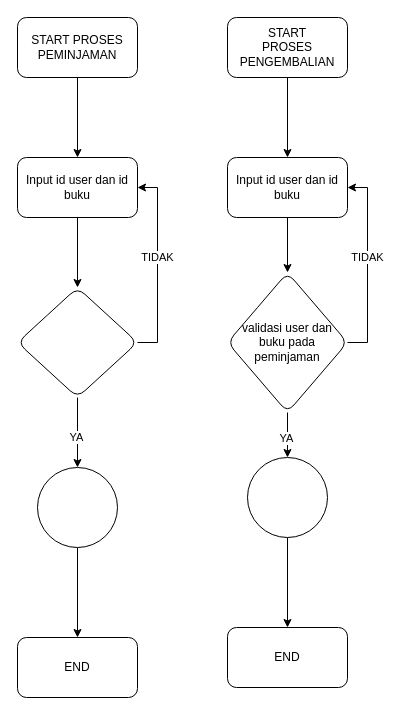
Image size: 400x715. Some labels were removed from this diagram. The centre of each missing label's shape, as x and y in pixels:
Proses Peminjaman Buku: the point at 77,507
Proses Pengembalian Buku: the point at 287,497
validasi user dan buku pada master: the point at 77,342
